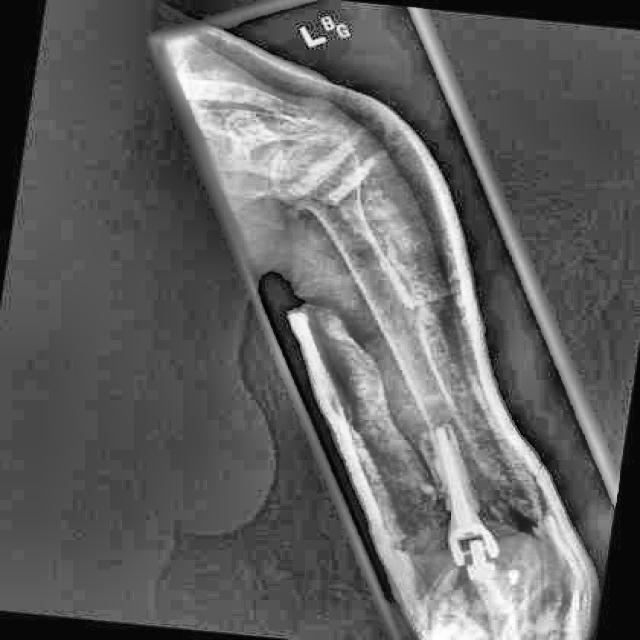humerus: (436, 396, 485, 472)
